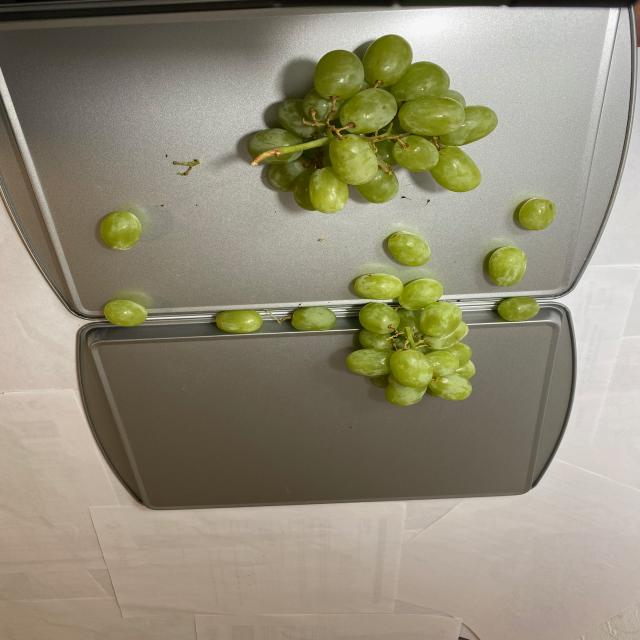grapes: (251, 39, 546, 403), (99, 212, 151, 329)
